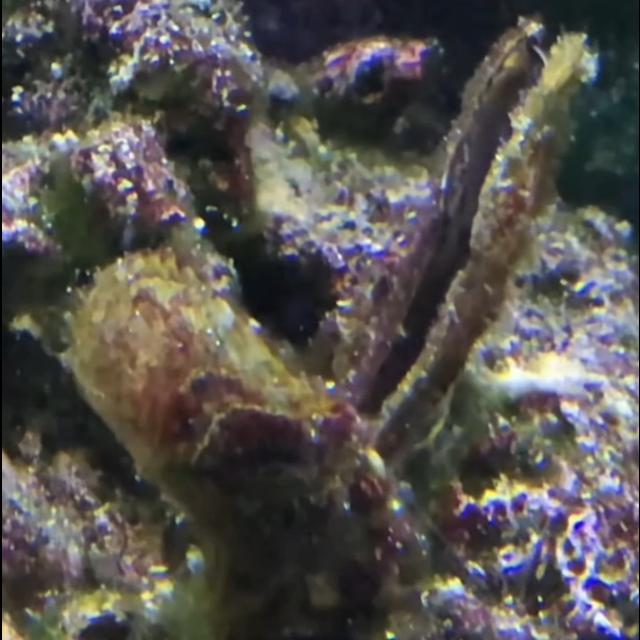Oyster-Closed: (70, 252, 396, 608)
Oyster-Open: (305, 19, 597, 477)
